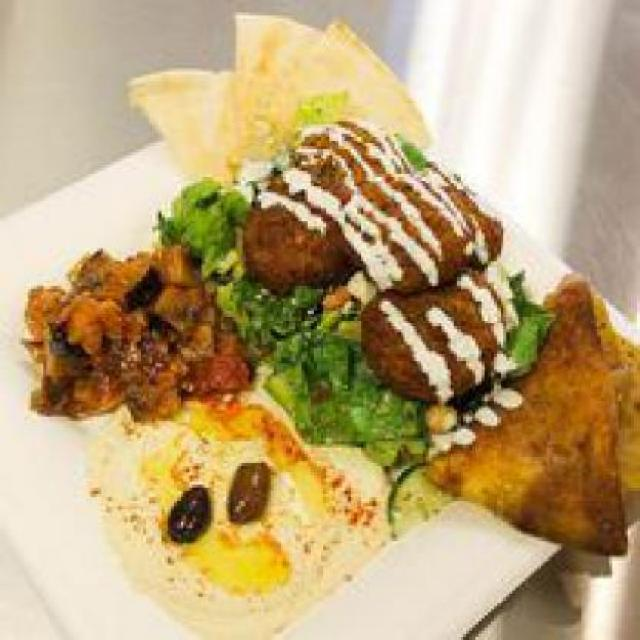eggplant: (16, 239, 252, 416)
falafel: (246, 114, 522, 400)
hummus: (90, 406, 407, 631)
samosa: (435, 267, 634, 568)
